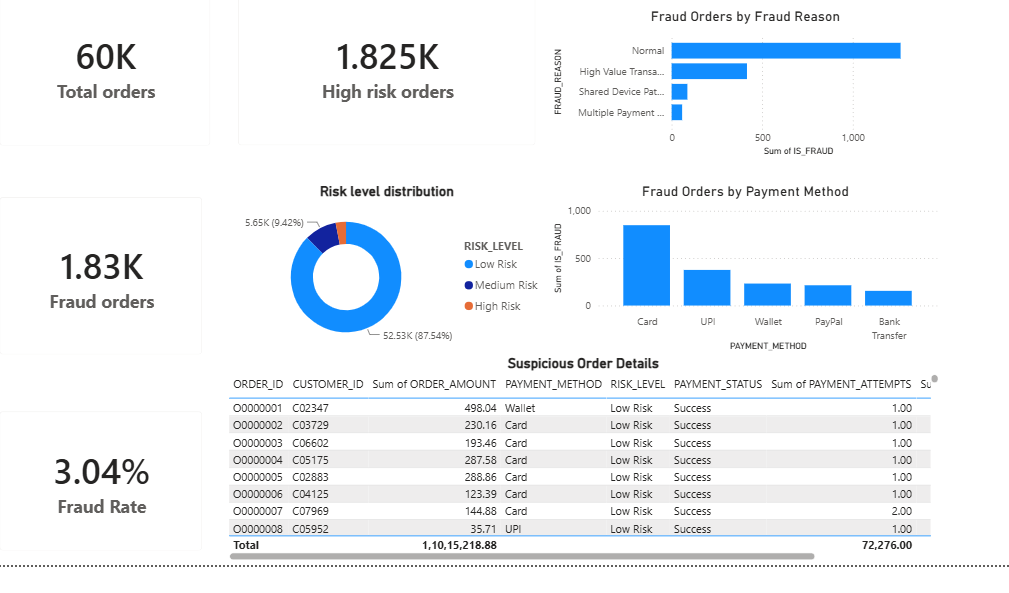

The dashboard page shown, as its layout file describes it:
{"tool":"powerbi","page":{"name":"fraud analytics","canvas":[1280,720],"ordinal":1},"visuals":[{"type":"cardVisual","fields":{"Data":["CountNonNull(VW_FRAUD_DASHBOARD.ORDER_ID)"]},"box":[10,0,290,228.3],"z":0},{"type":"cardVisual","fields":{"Data":["Sum(VW_FRAUD_DASHBOARD.IS_FRAUD)"]},"box":[10,256.7,280,225],"z":1},{"type":"cardVisual","fields":{"Data":["VW_FRAUD_DASHBOARD.Fraud Rate"]},"box":[10,516.7,280,203.3],"z":2},{"type":"cardVisual","fields":{"Data":["CountNonNull(VW_FRAUD_DASHBOARD.RISK_LEVEL)"]},"box":[300,1.7,395,226.7],"z":3},{"type":"donutChart","title":"Risk level distribution","fields":{"Category":["VW_FRAUD_DASHBOARD.RISK_LEVEL"],"Y":["CountNonNull(VW_FRAUD_DASHBOARD.CUSTOMER_ID)"]},"box":[300,256.7,395,208.3],"z":4},{"type":"clusteredColumnChart","title":"Fraud Orders by Payment Method","fields":{"Category":["VW_FRAUD_DASHBOARD.PAYMENT_METHOD"],"Y":["Sum(VW_FRAUD_DASHBOARD.IS_FRAUD)"]},"box":[695,256.7,476.7,208.3],"z":5},{"type":"clusteredBarChart","title":"Fraud Orders by Fraud Reason","fields":{"Category":["VW_FRAUD_DASHBOARD.FRAUD_REASON"],"Y":["Sum(VW_FRAUD_DASHBOARD.IS_FRAUD)"]},"box":[695,43.3,476.7,185],"z":6},{"type":"tableEx","title":"Suspicious Order Details","fields":{"Values":["VW_FRAUD_DASHBOARD.ORDER_ID","VW_FRAUD_DASHBOARD.CUSTOMER_ID","Sum(VW_FRAUD_DASHBOARD.ORDER_AMOUNT)","VW_FRAUD_DASHBOARD.PAYMENT_METHOD","VW_FRAUD_DASHBOARD.RISK_LEVEL","VW_FRAUD_DASHBOARD.PAYMENT_STATUS","Sum(VW_FRAUD_DASHBOARD.PAYMENT_ATTEMPTS)","Sum(VW_FRAUD_DASHBOARD.COUNTRY_MISMATCH)"]},"box":[300,465,871.7,255],"z":7}]}

Visuals, with their boxes on the page's 1280x720 design canvas (x1, y1, x2, y2). These are canvas units, not pixel positions in the 1009x593 screenshot, which may show the page scaled, cropped or inside an application window:
cardVisual - CountNonNull(VW_FRAUD_DASHBOARD.ORDER_ID): pyautogui.locateOnScreen(10, 0, 300, 228)
cardVisual - Sum(VW_FRAUD_DASHBOARD.IS_FRAUD): pyautogui.locateOnScreen(10, 257, 290, 482)
cardVisual - VW_FRAUD_DASHBOARD.Fraud Rate: pyautogui.locateOnScreen(10, 517, 290, 720)
cardVisual - CountNonNull(VW_FRAUD_DASHBOARD.RISK_LEVEL): pyautogui.locateOnScreen(300, 2, 695, 228)
"Risk level distribution" donutChart: pyautogui.locateOnScreen(300, 257, 695, 465)
"Fraud Orders by Payment Method" clusteredColumnChart: pyautogui.locateOnScreen(695, 257, 1172, 465)
"Fraud Orders by Fraud Reason" clusteredBarChart: pyautogui.locateOnScreen(695, 43, 1172, 228)
"Suspicious Order Details" tableEx: pyautogui.locateOnScreen(300, 465, 1172, 720)
